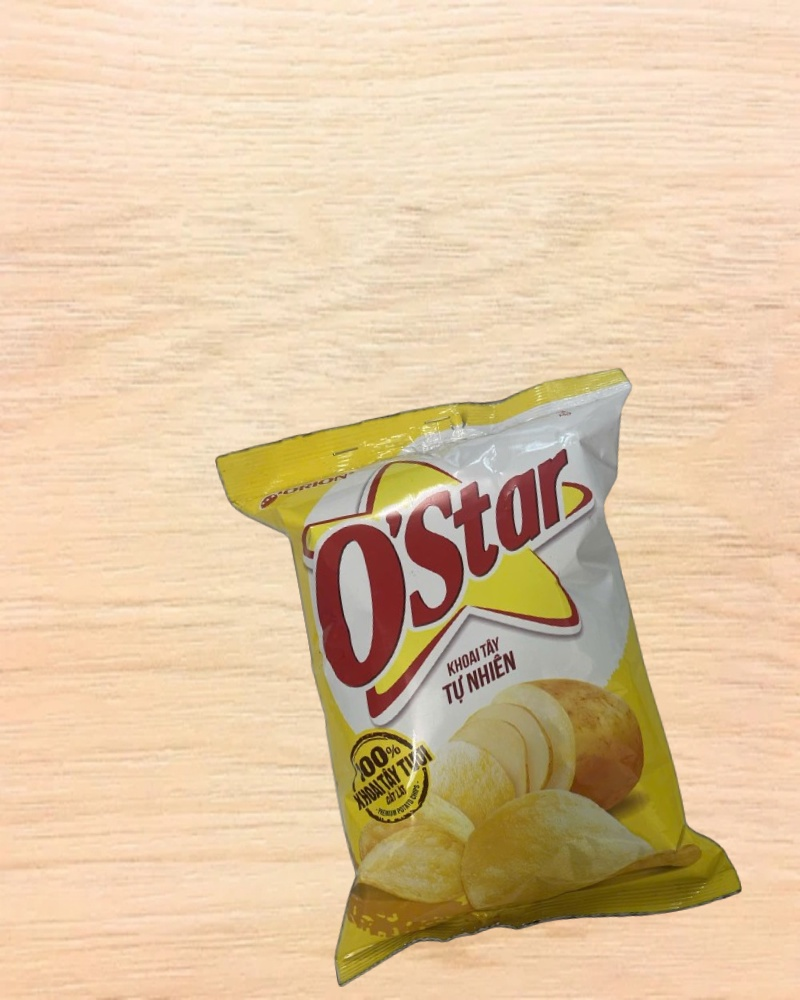O'star: (214, 363, 746, 992)
